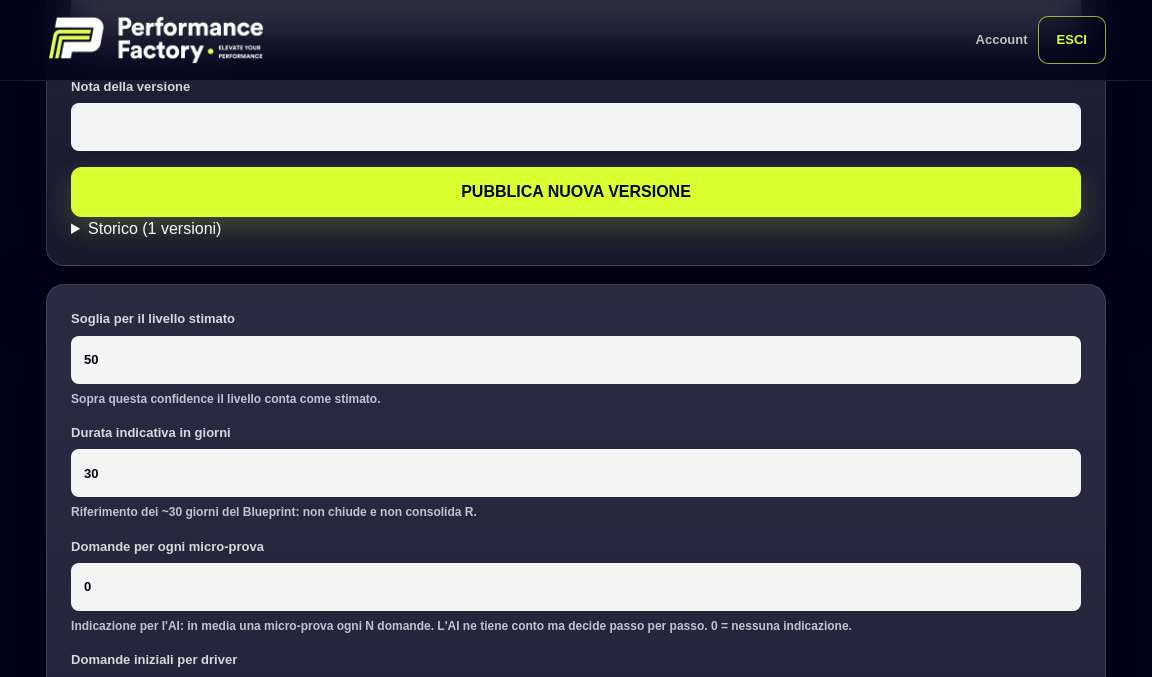
saves the calibration parameters, without time-based fields, and shows the server's refusal
(page scrolled)
Step 1. Replace the text in the number field labelled "Soglia per il livello stimato" with "60" → (576,360), box [71,336,1081,384]
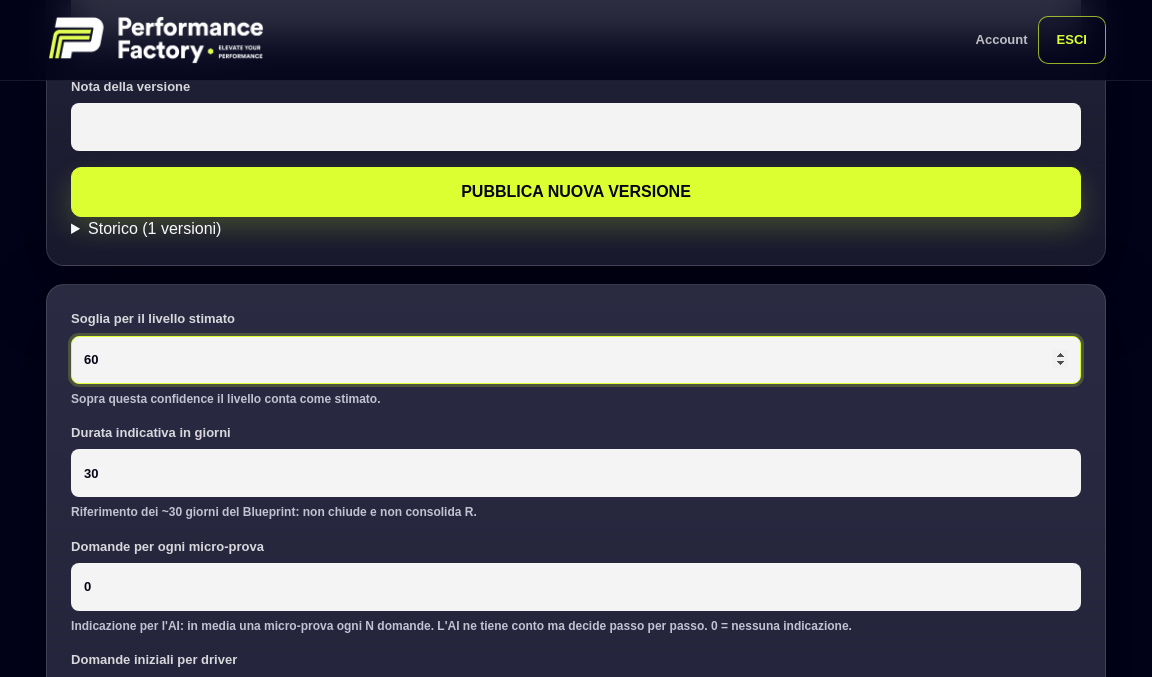
// Indicazione all'AI sul rapporto prove/domande, non una regola.
Step 2. Replace the text in the number field labelled "Domande per ogni micro-prova" with "3" → (576,587), box [71,563,1081,611]
(page scrolled)
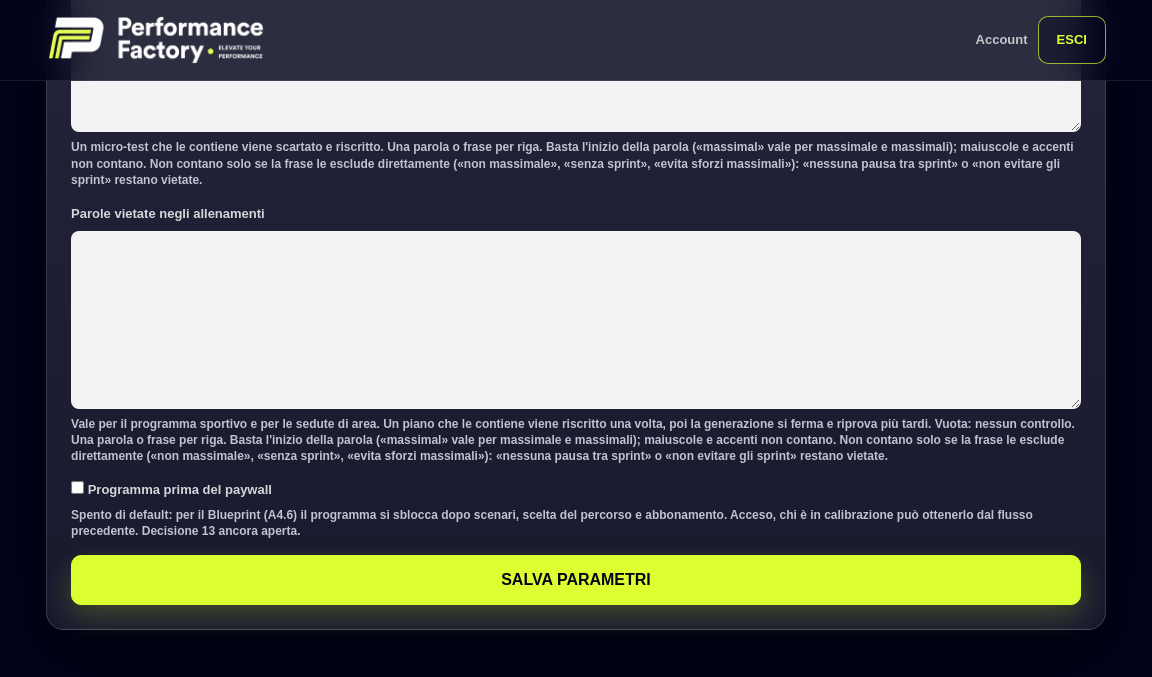
Step 3. Click the button "Salva parametri" → (576,580), box [71,555,1081,605]
(page scrolled)
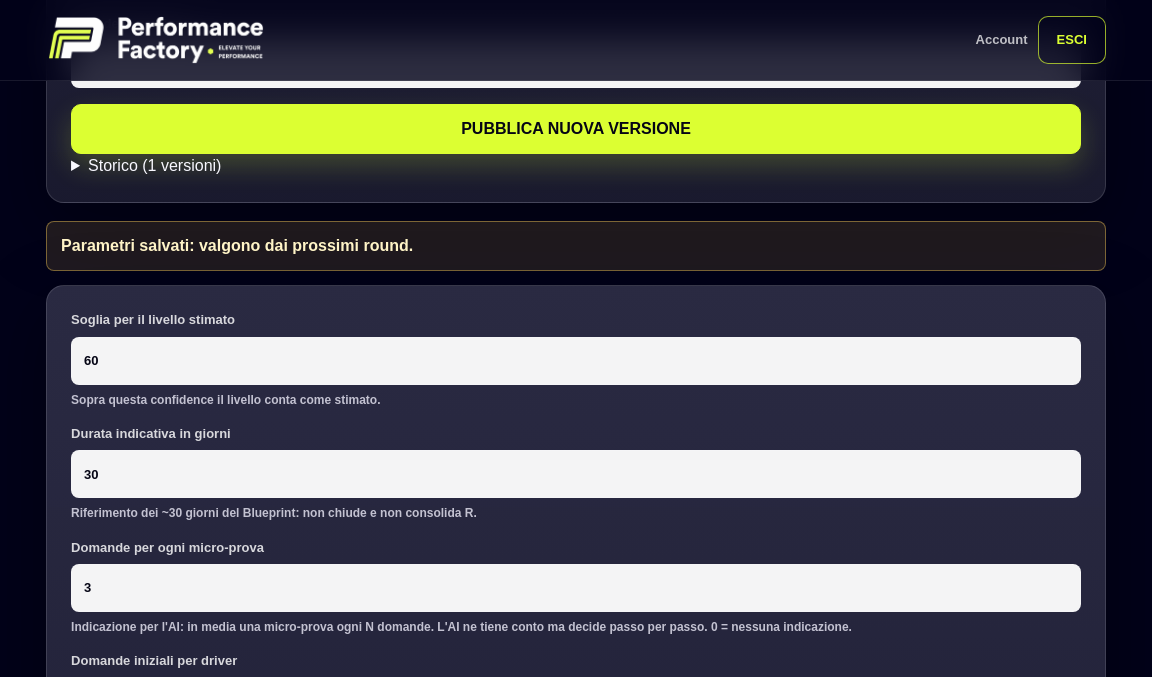
Now the text "Parametri salvati: valgono dai prossimi round." is shown, box [46,221,1106,271]
Step 4. Replace the text in the number field labelled "Soglia per il livello stimato" with "140" → (576,361), box [71,337,1081,385]
(page scrolled)
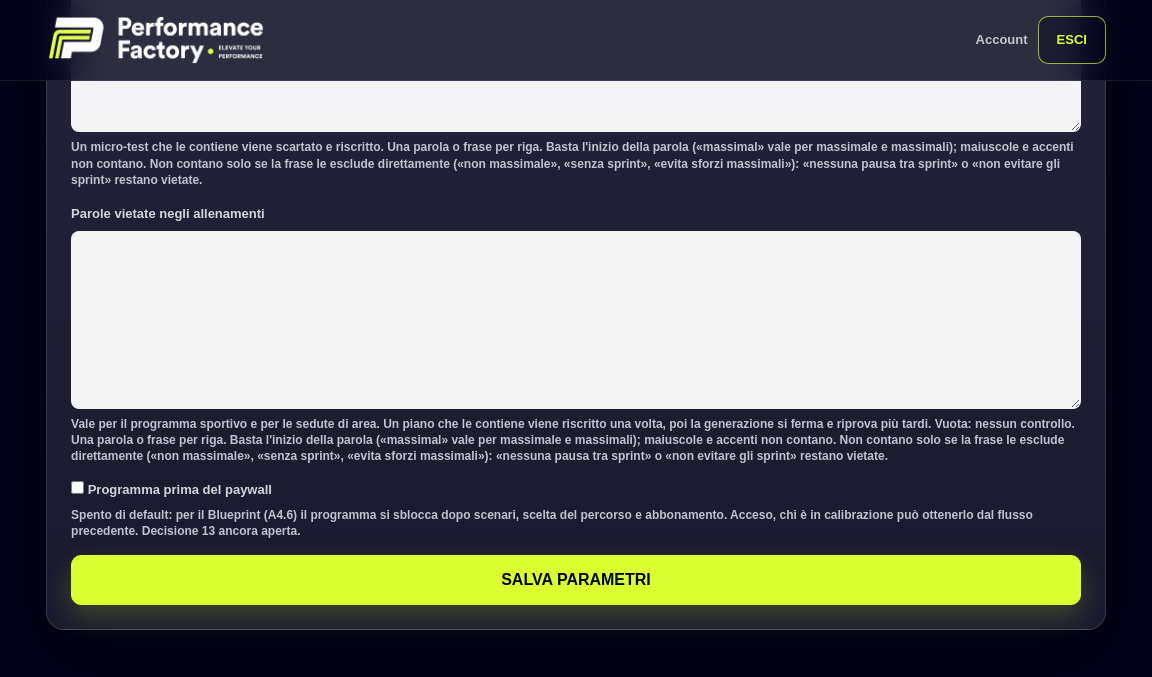
Step 5. Click the button "Salva parametri" → (576,580), box [71,555,1081,605]
(page scrolled)
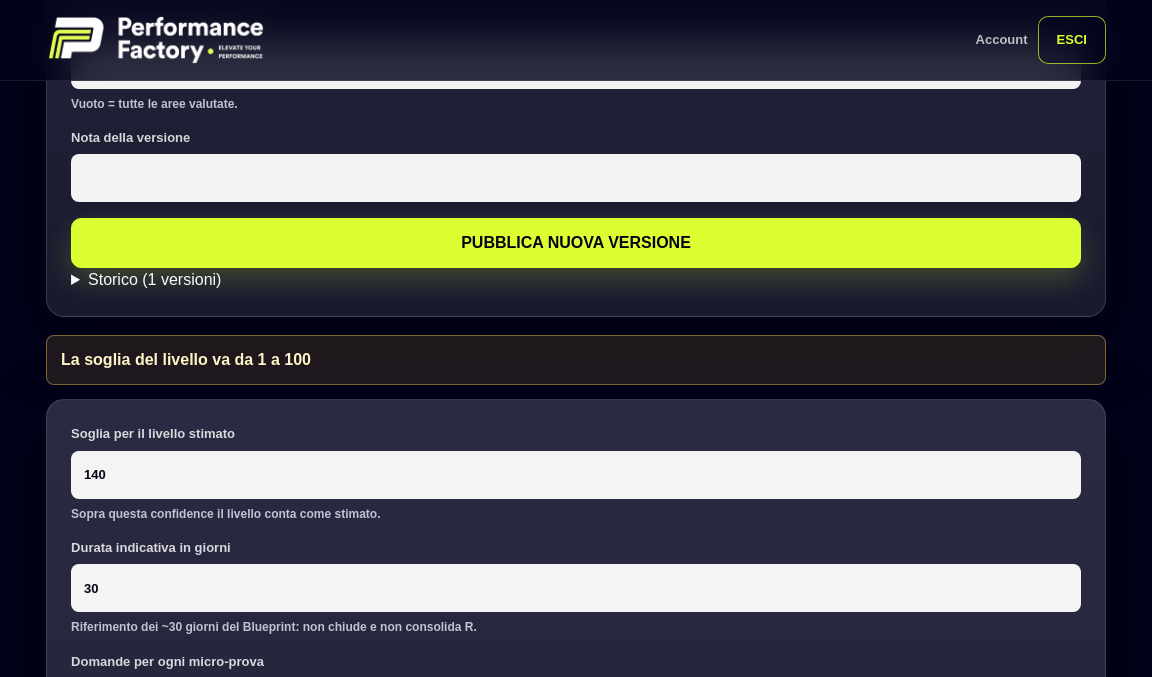
Now the text "La soglia del livello va da 1 a 100" is shown, box [46,335,1106,385]
